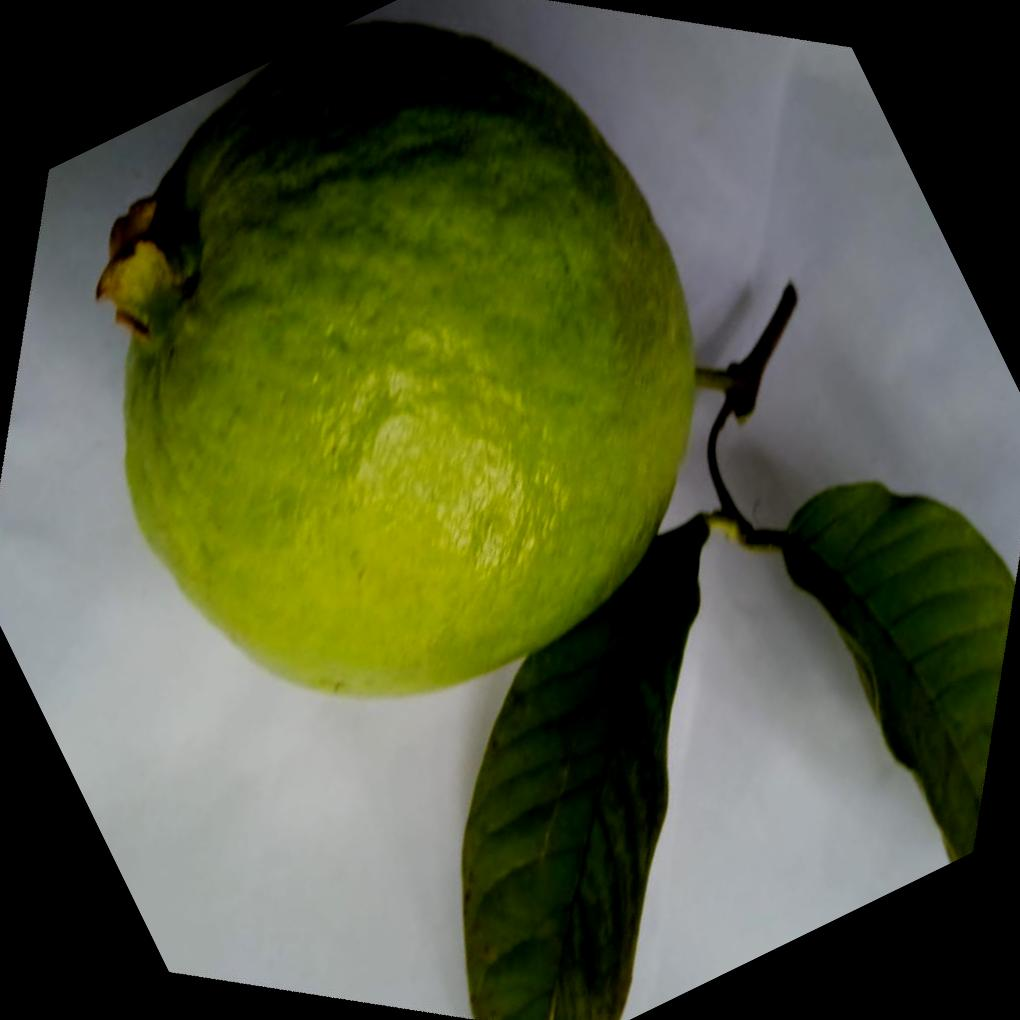FreshGuava: (92, 17, 697, 698)
